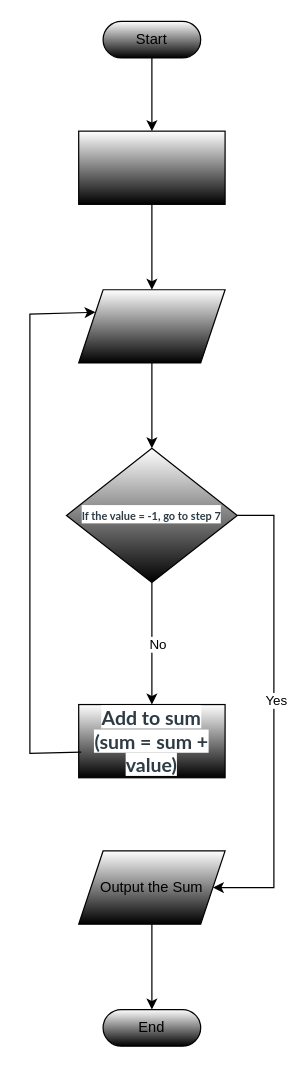
The diagram is 307 pixels wide and 1068 high, and some of its shapes have lost their labels. The centre of each missing label's shape, as x and y in pixels:
"Get a Value" belongs at (x=151, y=326).
"Sum = 0" belongs at (x=151, y=167).
